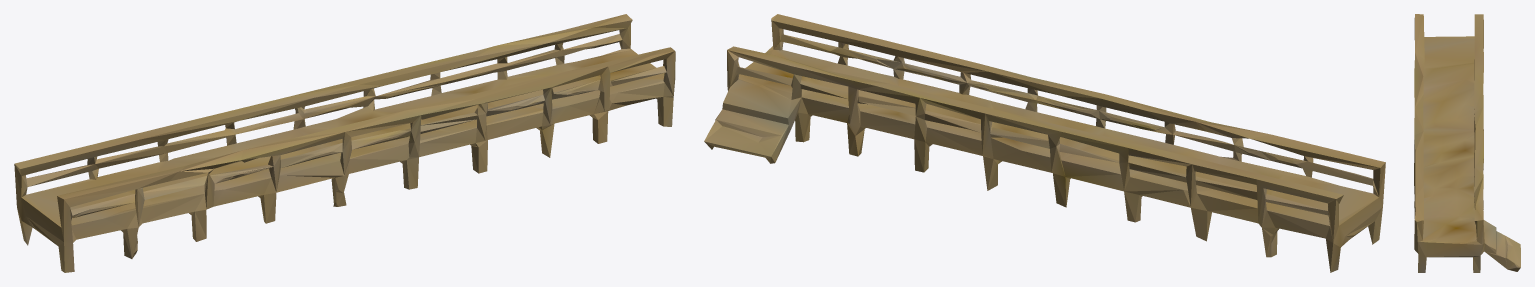
The model's file is fishing-dock.glb.
The picture shows the model from 3 angles, left to right: view 1: azimuth 30°, elevation 25°; view 2: azimuth 150°, elevation 25°; view 3: azimuth 270°, elevation 25°; orthographic projection. The views are drawn at different scales.
Parts seen in each view (by area): view 1: geometry_0; view 2: geometry_0; view 3: geometry_0.
Boxes of the visible parts, left/top/right/bottom form: geometry_0: left=14, top=14, right=675, bottom=272; geometry_0: left=704, top=14, right=1385, bottom=272; geometry_0: left=1414, top=14, right=1520, bottom=272.
Bounding box in the file's own units: 1.99 × 0.2506 × 0.4359.
